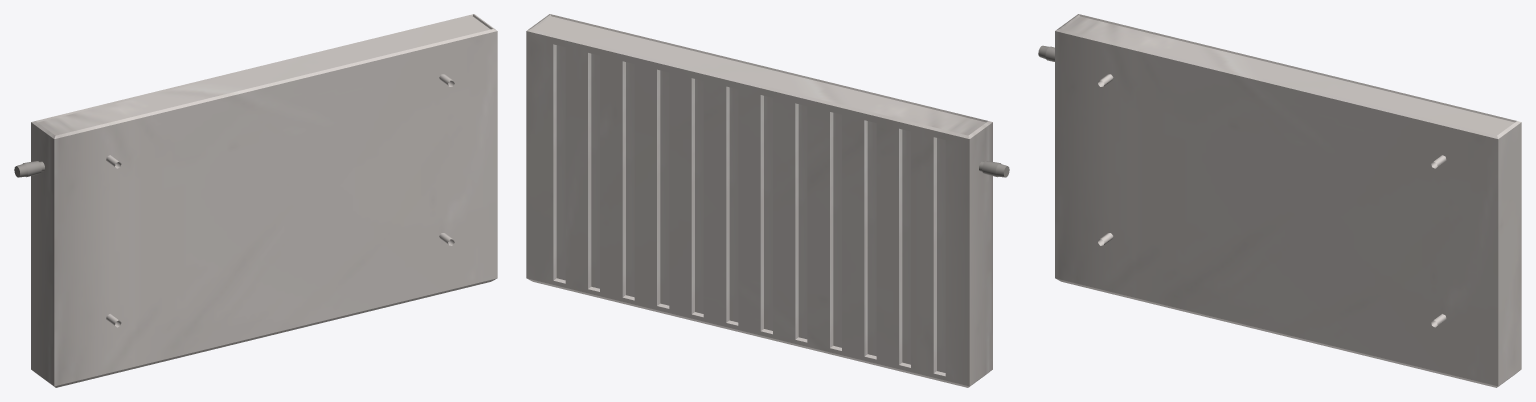
Rendered from radiator_1.fbx.
3 renders of one model, left to right at view 1: azimuth 30°, elevation 25°; view 2: azimuth 150°, elevation 25°; view 3: azimuth 330°, elevation 25°, orthographic.
Parts seen in each view (by area): view 1: polySurface1030; view 2: polySurface1030; view 3: polySurface1030.
Boxes of the visible parts, x1,y1,x2,y2 form: polySurface1030: (14,14,497,387); polySurface1030: (526,14,1009,387); polySurface1030: (1038,14,1521,387).
Size of the model in its own units: 116 by 60 by 13.81.
Materials: 1 (1 with a texture image).
